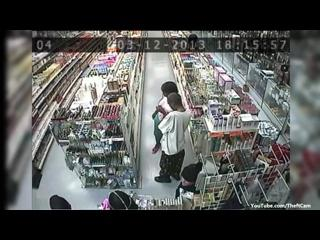Normal: (153, 93, 192, 183), (152, 81, 178, 154)
